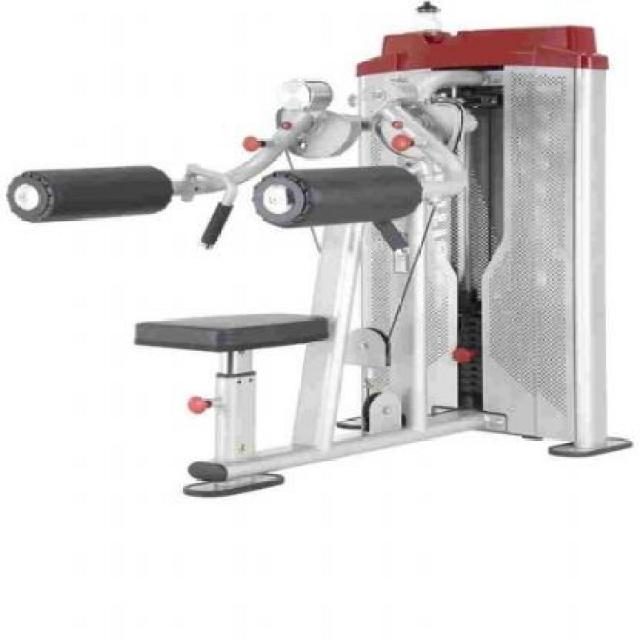lateral raises machine: (11, 28, 634, 498)
